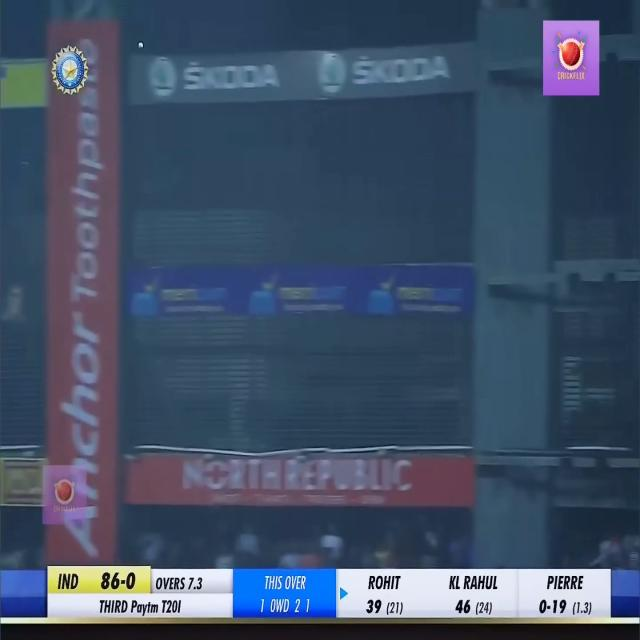fully_visible: (130, 598, 160, 622)
